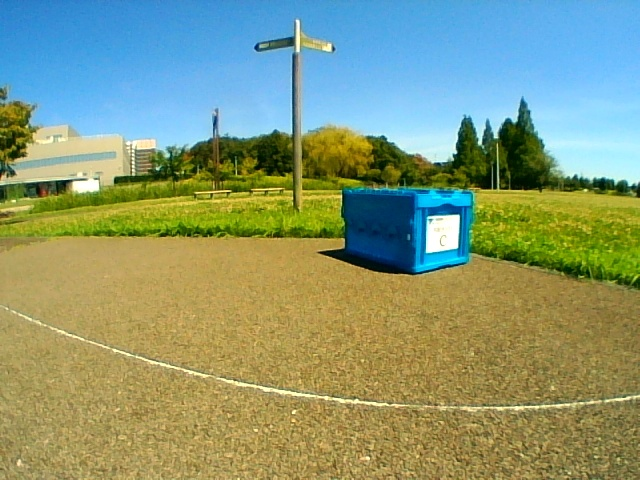blue_box: (344, 189, 469, 261)
tag_c: (429, 215, 456, 250)
